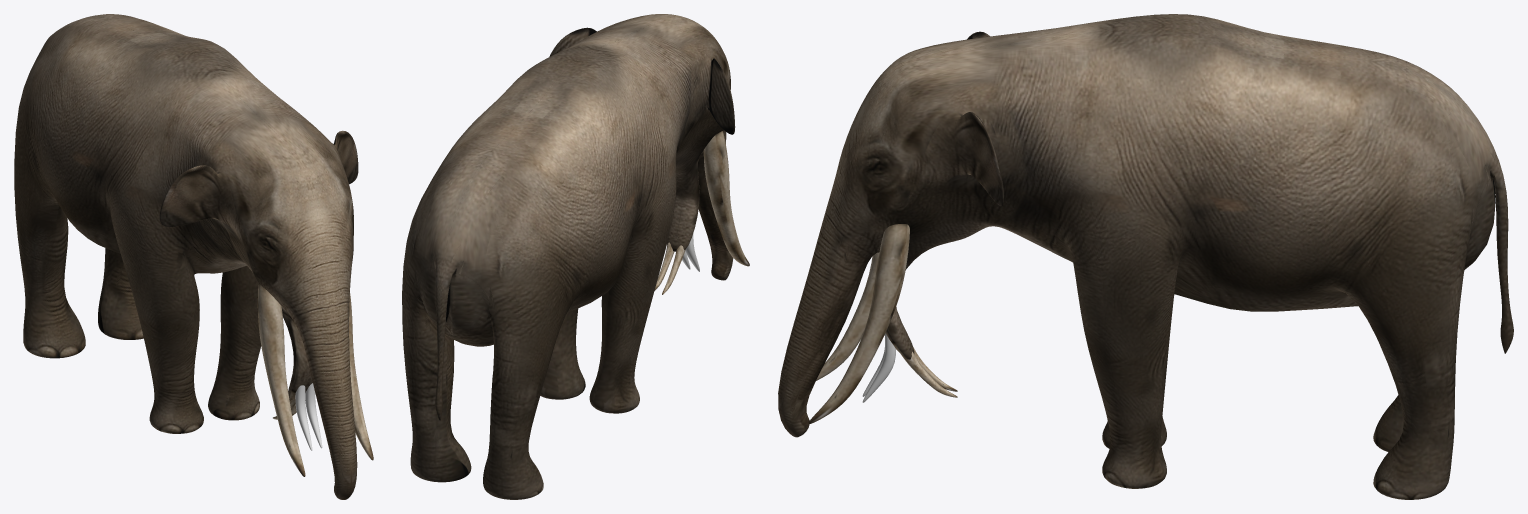
The model's file is 02 Prodeinotherium (ช้างงาจอบโปรไดโนธีเรียม).fbx.
3 renders of one model, left to right at view 1: azimuth 30°, elevation 25°; view 2: azimuth 150°, elevation 25°; view 3: azimuth 270°, elevation 25°, orthographic. The views are drawn at different scales.
Visible parts, largest first — view 1: Cube, Cube.001, Cube.002; view 2: Cube, Cube.001, Cube.003; view 3: Cube, Cube.001.
Part boxes in pixels (x1=…): Cube: x1=14, y1=14, x2=358, y2=499; Cube.001: x1=257, y1=283, x2=373, y2=476; Cube.002: x1=295, y1=383, x2=322, y2=450; Cube: x1=402, y1=14, x2=735, y2=499; Cube.001: x1=703, y1=131, x2=749, y2=266; Cube.003: x1=654, y1=242, x2=685, y2=294; Cube: x1=778, y1=14, x2=1513, y2=499; Cube.001: x1=808, y1=224, x2=909, y2=423.
Size of the model in its own units: 492 by 847 by 1291.
Materials: 1 (1 with a texture image).
